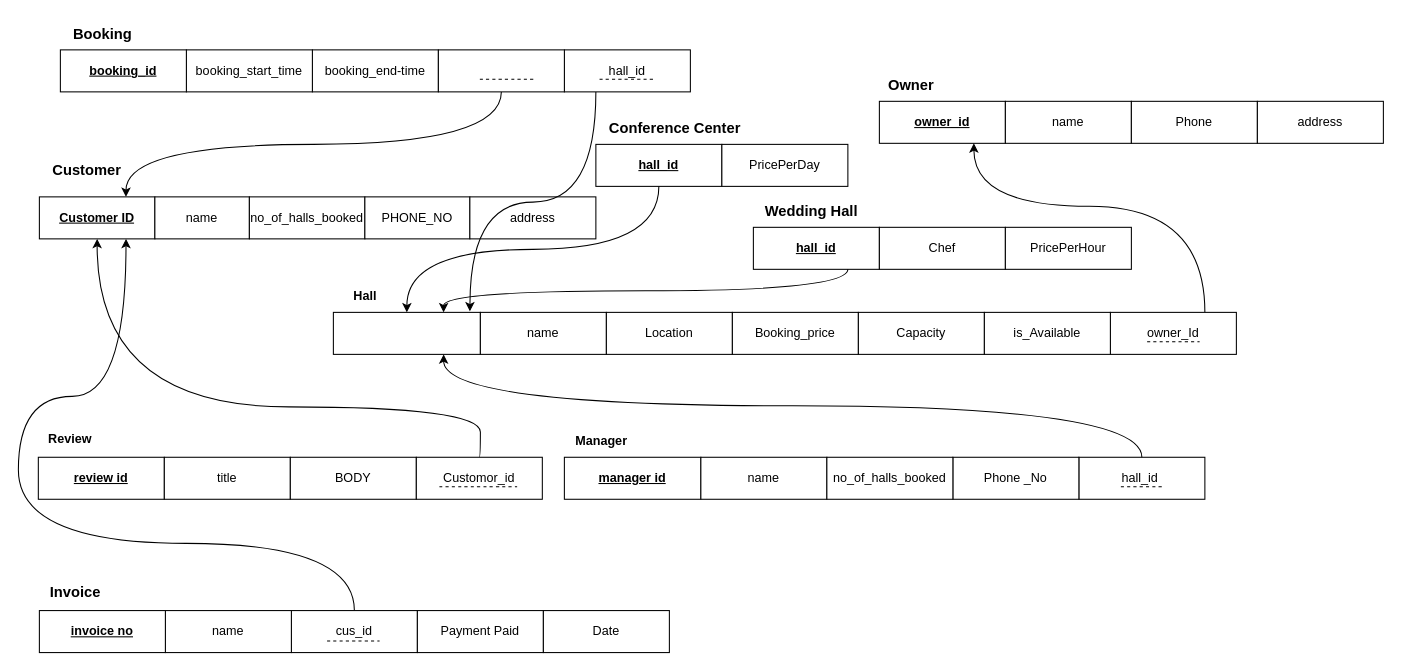
Some shapes in this 1402 by 671 pixel diagram are drawn without their labels. Each missing label, with the box of its shape:
cust _id: (437, 49, 564, 92)
Hall id: (332, 311, 480, 354)
